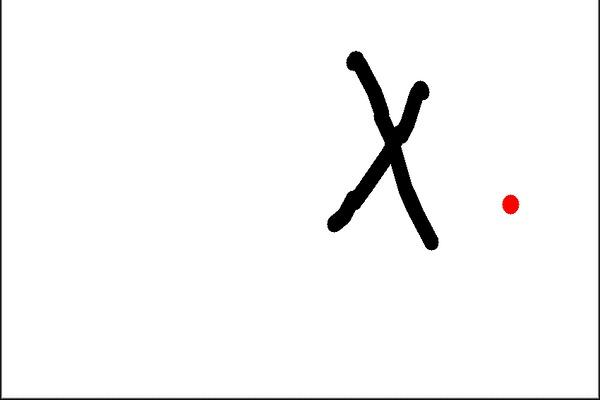X: (289, 39, 468, 270)
